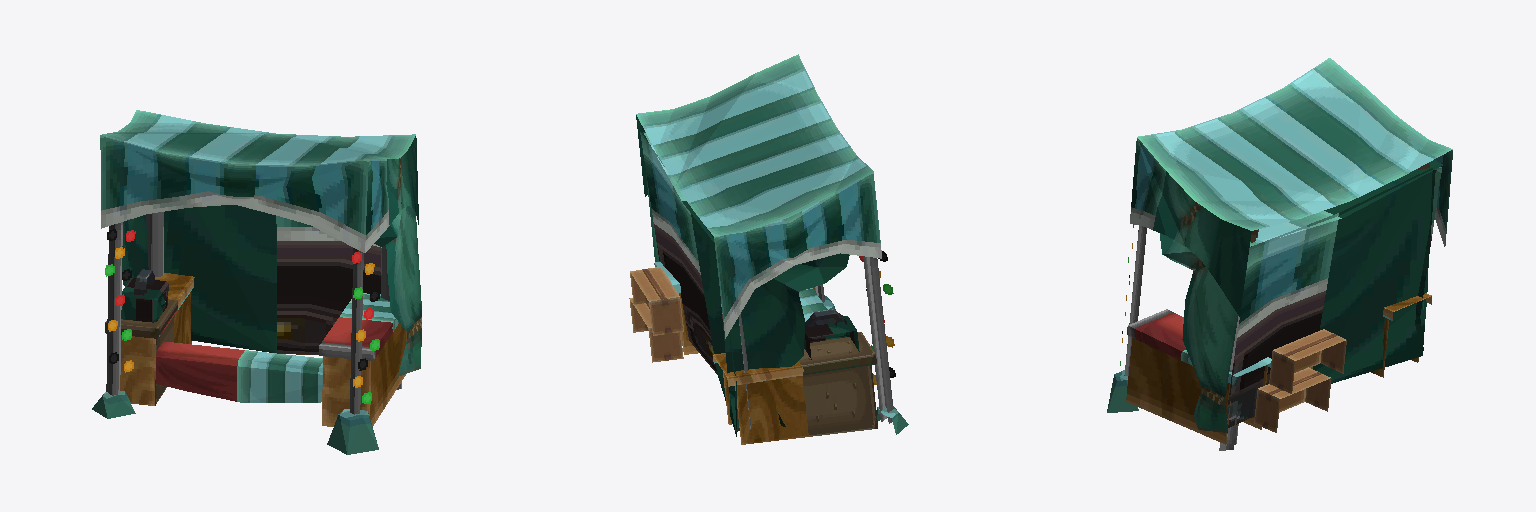
The picture shows the model from 3 angles: view 1: azimuth 30°, elevation 25°; view 2: azimuth 150°, elevation 25°; view 3: azimuth 270°, elevation 25°; orthographic projection.
Parts seen in each view (by area): view 1: vsn_mesh_1__mesh_1_, vsn_mesh_0__mesh_0_; view 2: vsn_mesh_1__mesh_1_; view 3: vsn_mesh_1__mesh_1_.
Boxes of the visible parts, <box> form: vsn_mesh_1__mesh_1_: <box>92,110,421,454</box>; vsn_mesh_0__mesh_0_: <box>105,229,379,403</box>; vsn_mesh_1__mesh_1_: <box>629,54,908,444</box>; vsn_mesh_1__mesh_1_: <box>1107,58,1452,450</box>.
Size of the model in its own units: 1.06 by 0.963 by 1.09.
Materials: 2 (2 with a texture image).